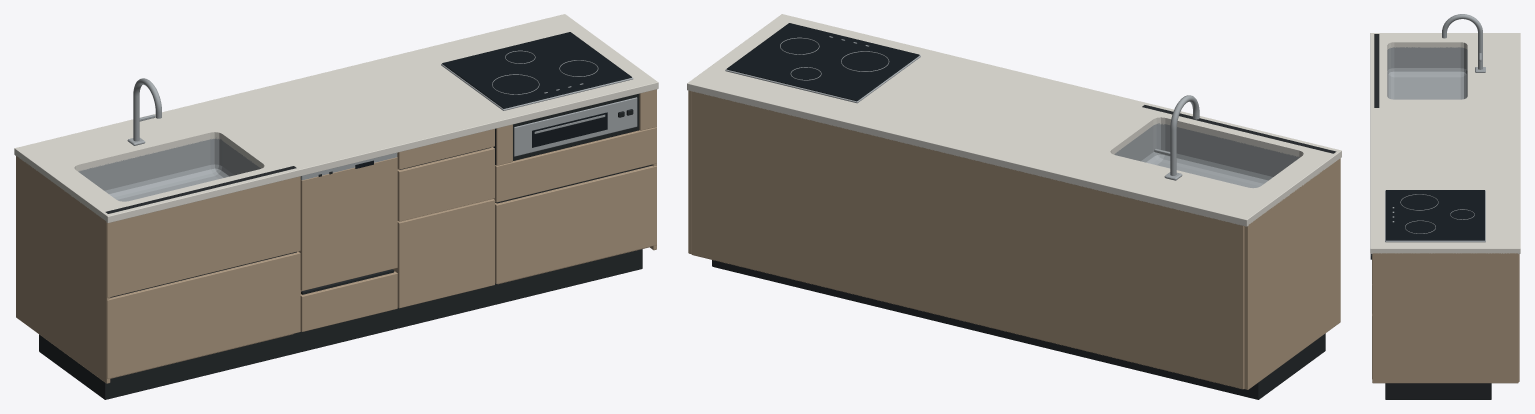
The model's file is original-kitchen-p2550-750.glb.
3 renders of one model, left to right at view 1: azimuth 30°, elevation 25°; view 2: azimuth 150°, elevation 25°; view 3: azimuth 270°, elevation 25°, orthographic. The views are drawn at different scales.
Visible parts, largest first — view 1: original-kitchen-p2550-750; view 2: original-kitchen-p2550-750; view 3: original-kitchen-p2550-750.
Part boxes in pixels (x1,y1,x2,y2): original-kitchen-p2550-750: [14, 14, 658, 399]; original-kitchen-p2550-750: [687, 14, 1341, 399]; original-kitchen-p2550-750: [1370, 14, 1520, 399].
Size of the model in its own units: 2.55 by 1.16 by 0.75.
